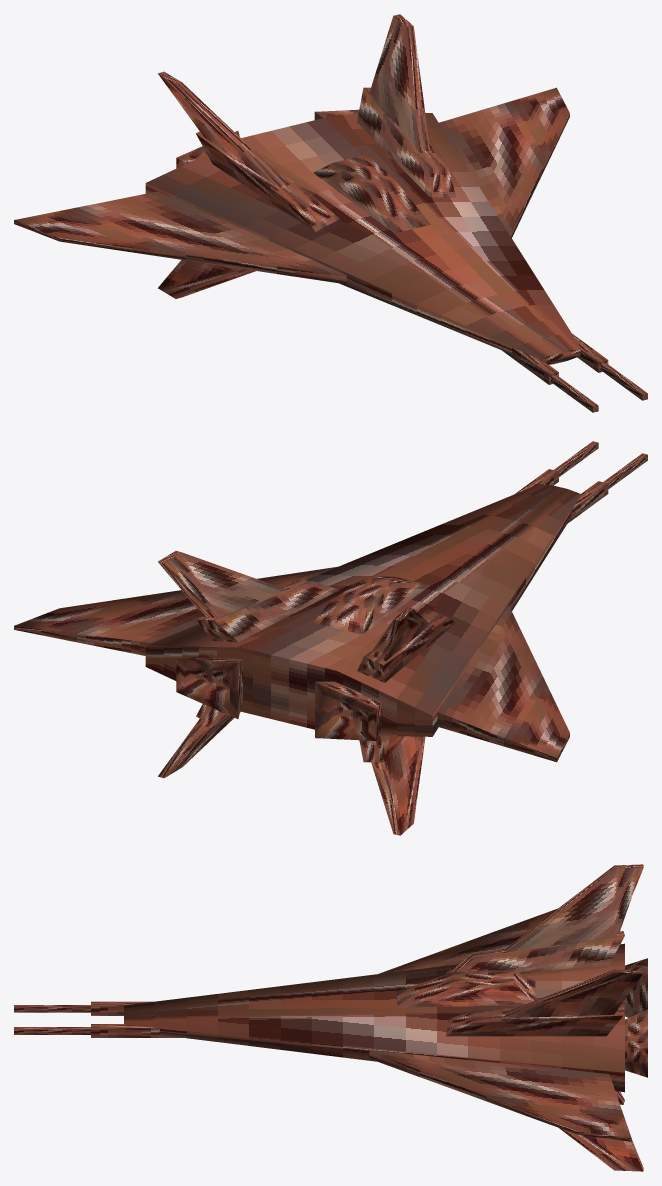
File: house.obj
3 renders of one model, top to bottom at view 1: azimuth 30°, elevation 25°; view 2: azimuth 150°, elevation 25°; view 3: azimuth 270°, elevation 25°, orthographic. The views are drawn at different scales.
Visible parts, largest first — view 1: Lo_poly_Spaceship_01_by_Liz_Reddington; view 2: Lo_poly_Spaceship_01_by_Liz_Reddington; view 3: Lo_poly_Spaceship_01_by_Liz_Reddington.
Part boxes in pixels (left/top/right/bottom): Lo_poly_Spaceship_01_by_Liz_Reddington: left=14, top=14, right=647, bottom=412; Lo_poly_Spaceship_01_by_Liz_Reddington: left=14, top=441, right=647, bottom=835; Lo_poly_Spaceship_01_by_Liz_Reddington: left=14, top=864, right=647, bottom=1171.
Size of the model in its own units: 677 by 256 by 743.
Materials: 1 (1 with a texture image).
